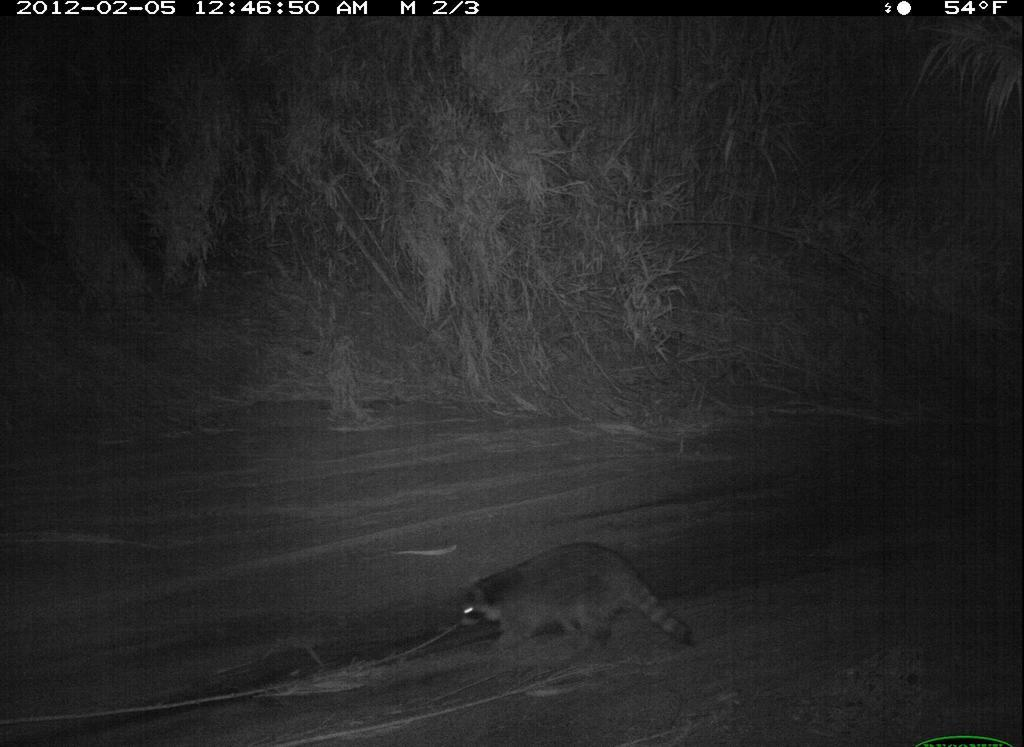raccoon: (451, 532, 705, 671)
